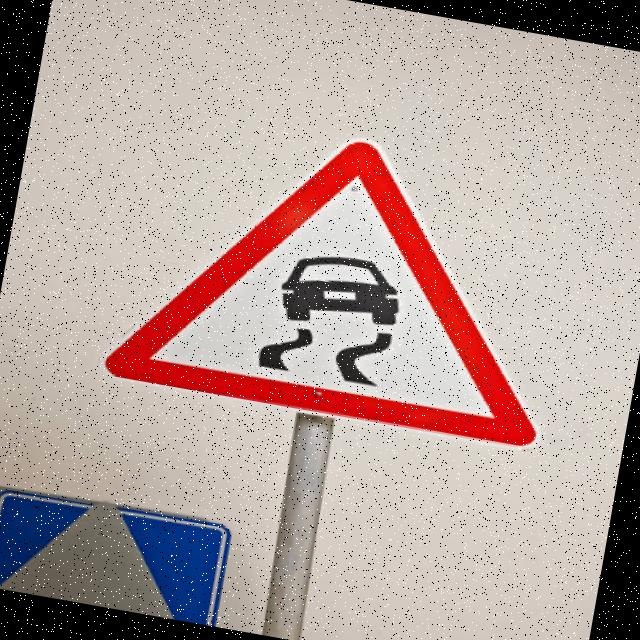road_slippery: (86, 98, 601, 468)
